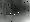person: (7, 6, 14, 19)
